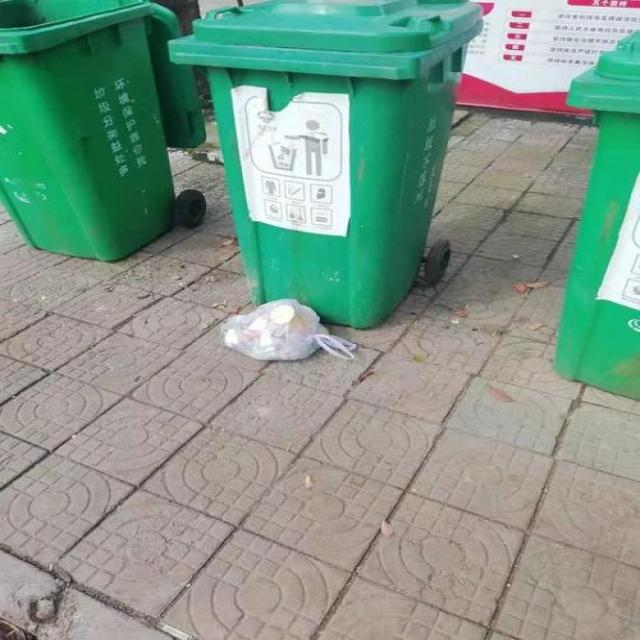garbage: (221, 297, 361, 361)
garbage_bin: (164, 0, 481, 327), (0, 0, 203, 261)
